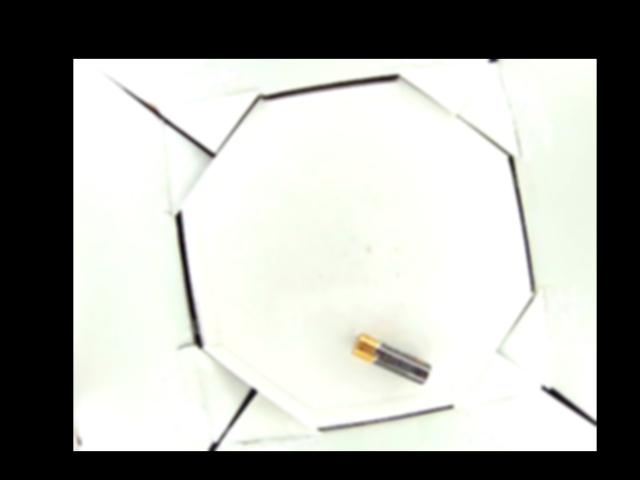Battery: (351, 332, 433, 383)
